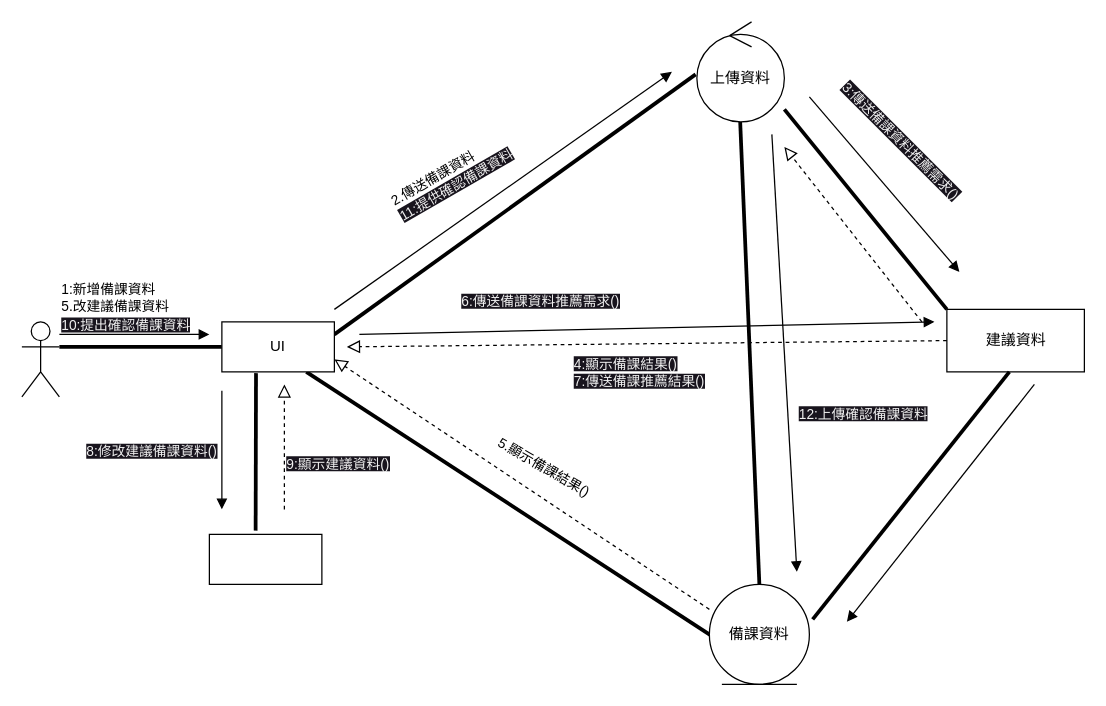
Image size: 1106x706. Some labels were removed from this diagram. Here are the shapes that lost their labels. From the top down, the centre of each, then its label:
At point 40,359: ":老師".
At point 265,558: "修改建議資料".
